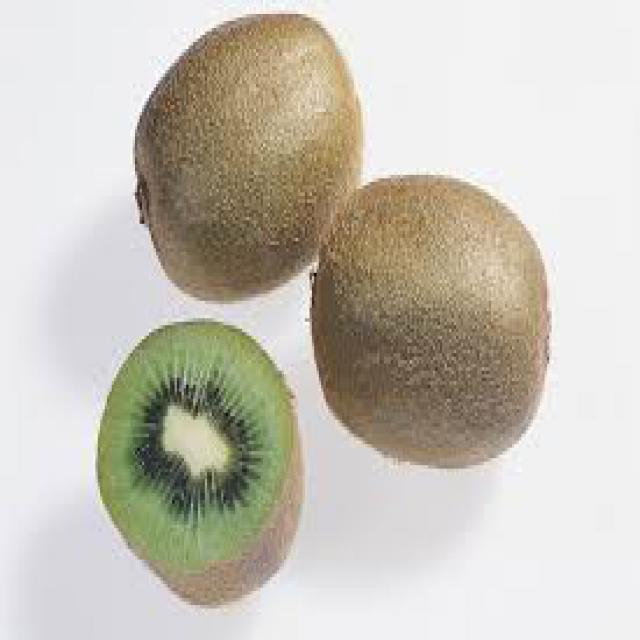kiwi: (308, 172, 550, 463), (132, 15, 367, 302)
